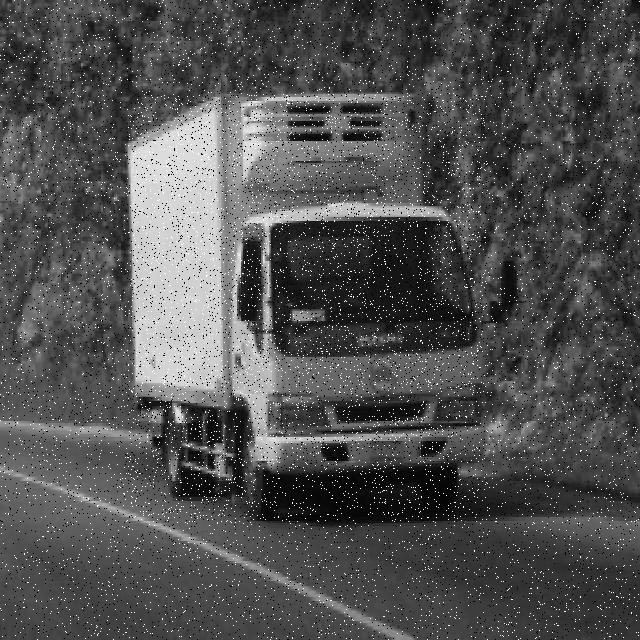Box Truck: (127, 94, 487, 522)
